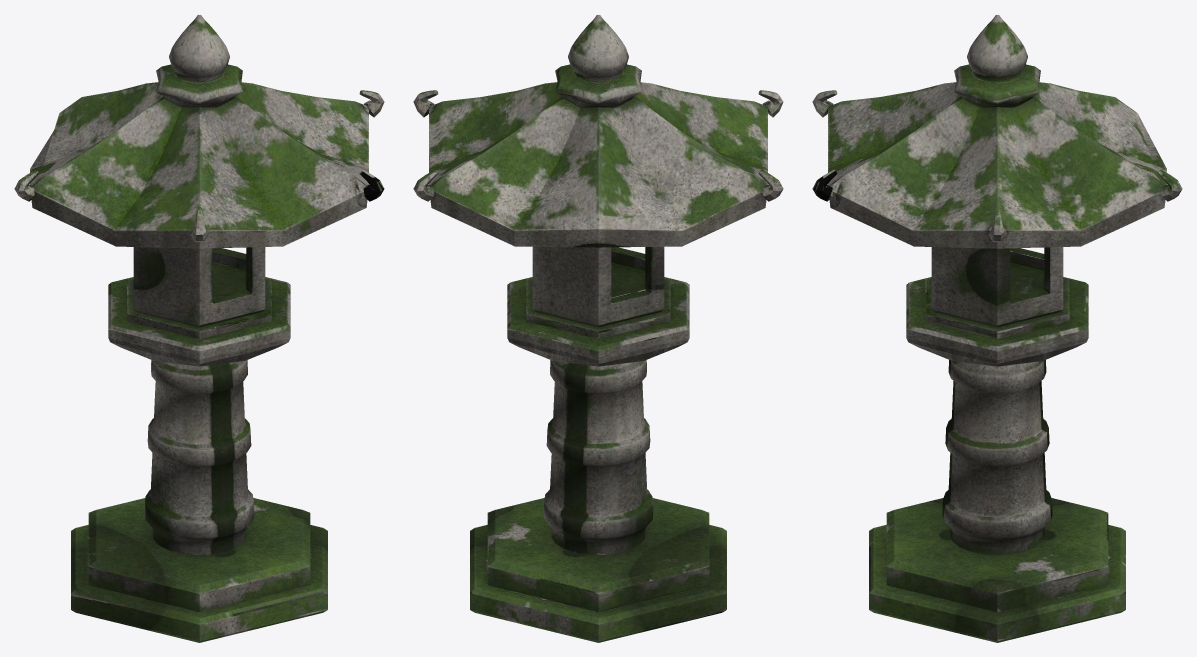
File: stone_lantern.glb
3 views of the same model, side by side, from view 1: azimuth 30°, elevation 25°; view 2: azimuth 150°, elevation 25°; view 3: azimuth 270°, elevation 25° (orthographic).
Visible parts, largest first — view 1: lantern_roof, lantern_base, lantern_pole, lantern_firebox, lantern_nakadai, lantern_top; view 2: lantern_roof, lantern_base, lantern_pole, lantern_firebox, lantern_nakadai, lantern_top; view 3: lantern_roof, lantern_base, lantern_pole, lantern_firebox, lantern_nakadai, lantern_top.
Part boxes in pixels (left/top/right/bottom): lantern_roof: left=14, top=82, right=384, bottom=248; lantern_base: left=71, top=498, right=327, bottom=642; lantern_pole: left=144, top=360, right=254, bottom=554; lantern_firebox: left=133, top=247, right=265, bottom=327; lantern_nakadai: left=108, top=277, right=290, bottom=366; lantern_top: left=156, top=15, right=242, bottom=107; lantern_roof: left=413, top=82, right=783, bottom=247; lantern_base: left=470, top=498, right=726, bottom=642; lantern_pole: left=543, top=360, right=653, bottom=554; lantern_firebox: left=532, top=246, right=664, bottom=327; lantern_nakadai: left=507, top=277, right=689, bottom=366; lantern_top: left=555, top=15, right=641, bottom=107; lantern_roof: left=812, top=82, right=1182, bottom=248; lantern_base: left=869, top=498, right=1125, bottom=642; lantern_pole: left=942, top=360, right=1052, bottom=554; lantern_firebox: left=931, top=247, right=1063, bottom=327; lantern_nakadai: left=906, top=277, right=1088, bottom=366; lantern_top: left=954, top=15, right=1040, bottom=107.
Bounding box in the file's own units: 0.9659 × 1.43 × 0.8442.
1 material, 1 textured.
